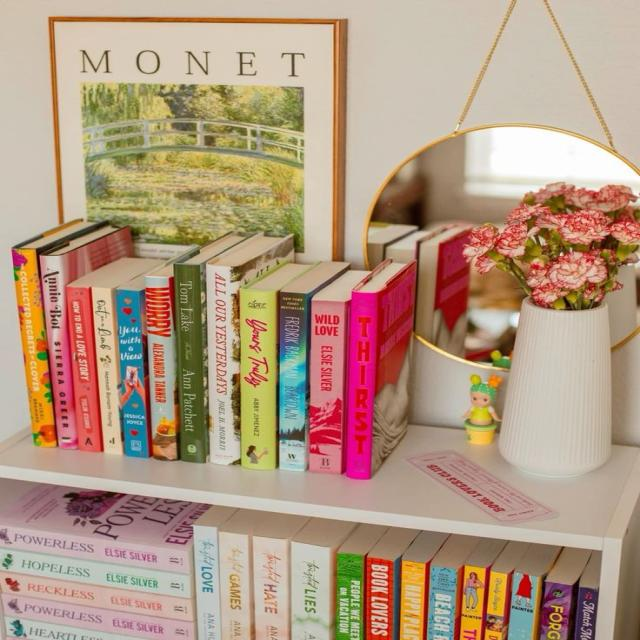book: (0, 547, 191, 598), (0, 573, 192, 622), (0, 526, 190, 574), (12, 248, 57, 446), (1, 595, 196, 640), (205, 266, 243, 464), (41, 256, 79, 448), (173, 263, 209, 463), (145, 261, 178, 460), (348, 292, 380, 476), (68, 288, 103, 452), (310, 299, 342, 473), (116, 289, 149, 457), (243, 289, 273, 471), (278, 291, 308, 471), (92, 288, 123, 455), (253, 536, 290, 640), (293, 543, 332, 640), (219, 531, 251, 639), (5, 617, 141, 639), (193, 526, 218, 639), (335, 553, 365, 640), (367, 558, 396, 640), (508, 570, 540, 640), (428, 568, 457, 640), (461, 564, 488, 640), (483, 571, 512, 640), (401, 561, 425, 640), (541, 581, 570, 640), (573, 587, 598, 640)
flowers: (463, 182, 639, 478)
